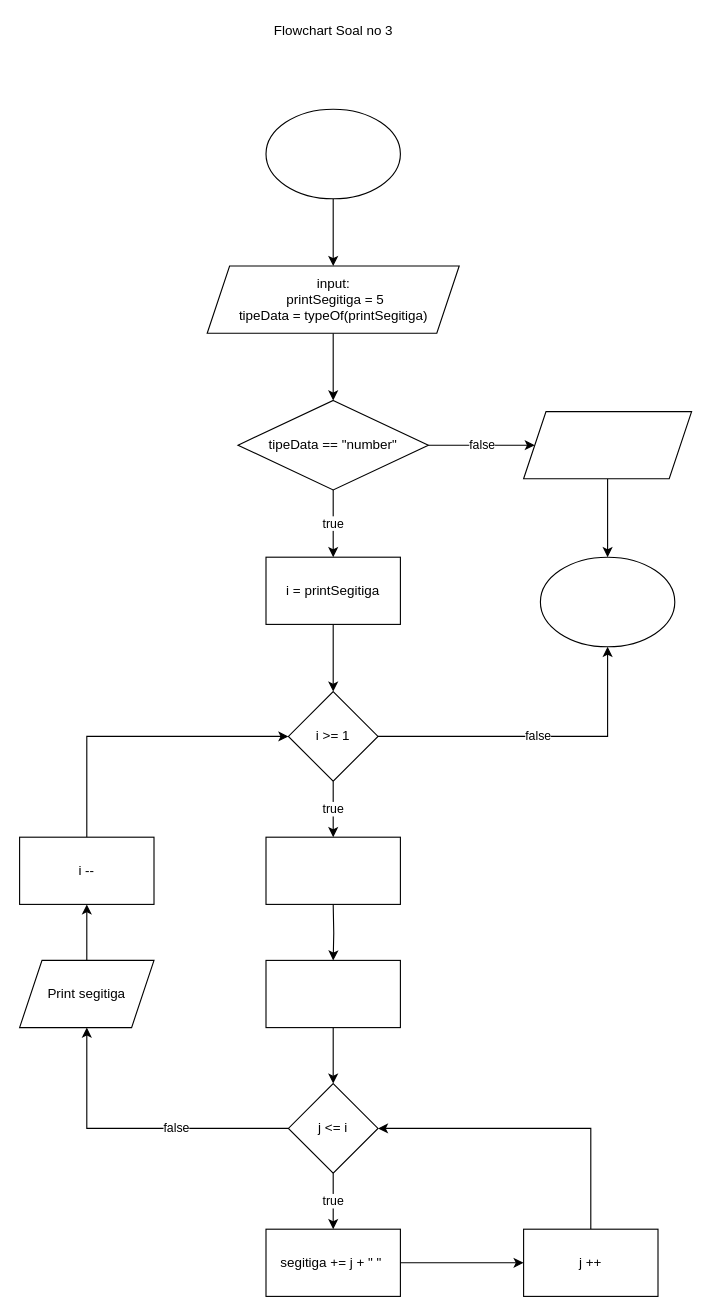
The diagram is 711 pixels wide and 1316 high, and some of its shapes have lost their labels. Each missing label, with the centre of its shape:
End: (x=607, y=601)
j = 1: (x=332, y=993)
Print "Data harus Number": (x=607, y=444)
segitiga = "": (x=332, y=870)
Start: (x=332, y=153)
